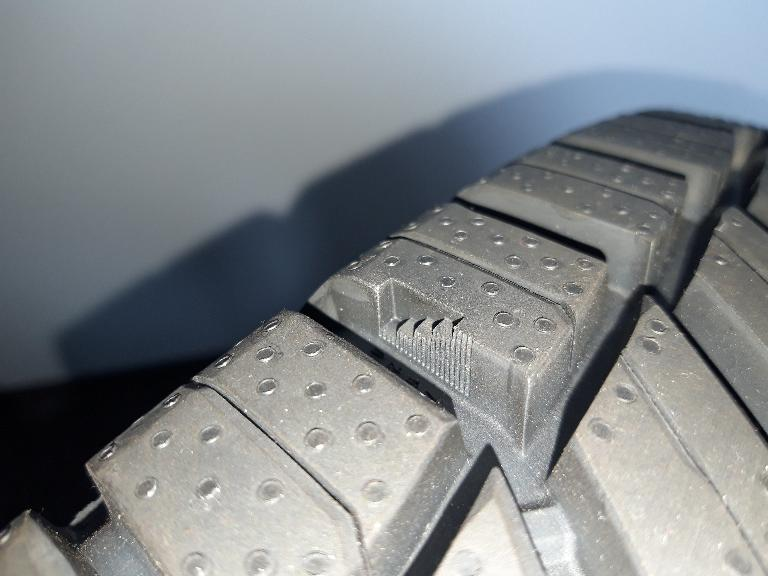temoin:100: (371, 275, 482, 403)
